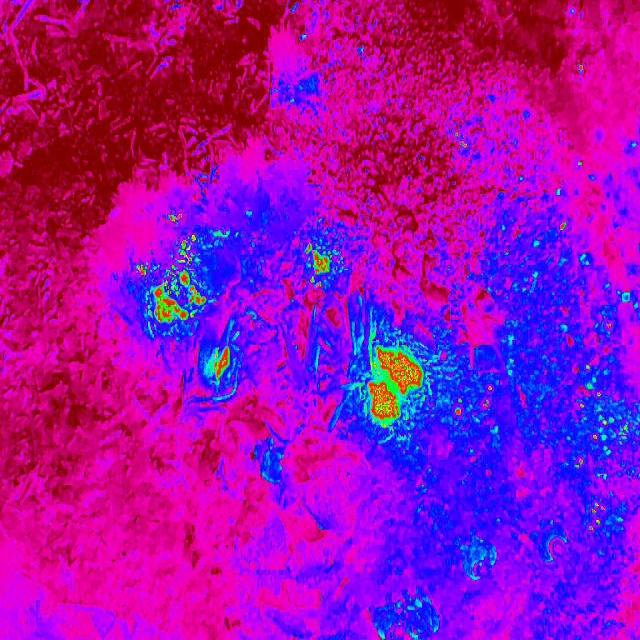fire: (518, 211, 640, 547), (134, 254, 208, 332), (365, 329, 423, 428), (450, 378, 501, 426), (298, 238, 334, 292), (168, 214, 198, 268), (203, 340, 233, 390), (452, 131, 471, 153), (572, 60, 590, 78)
